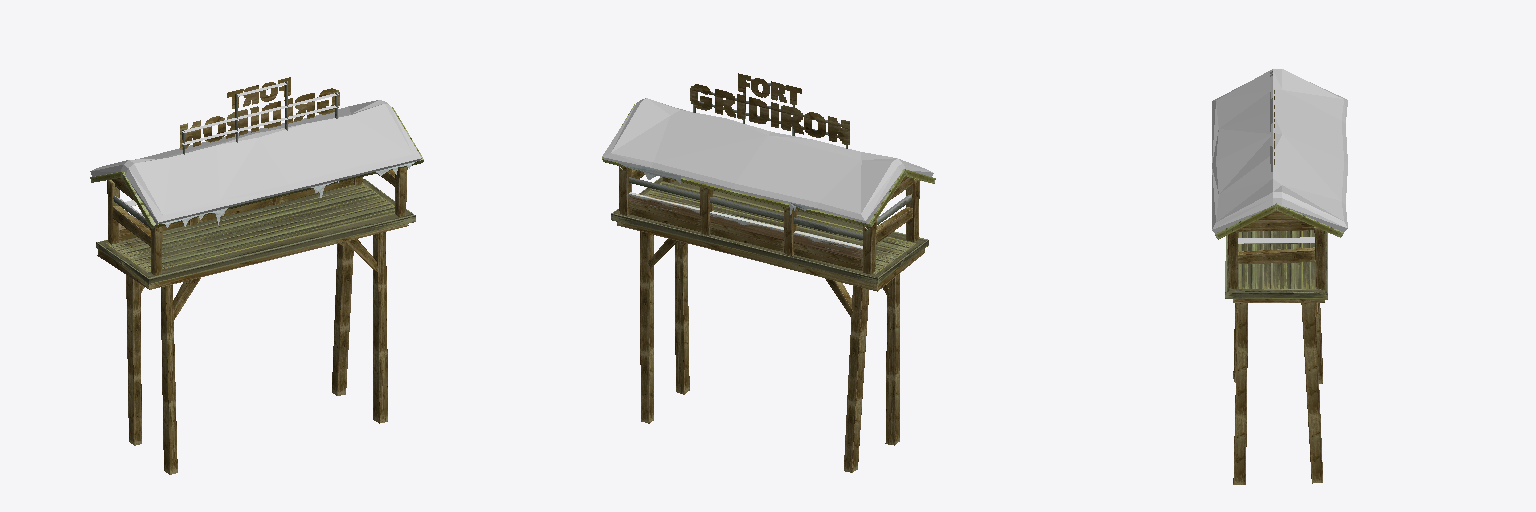
3 renders of one model, left to right at view 1: azimuth 30°, elevation 25°; view 2: azimuth 150°, elevation 25°; view 3: azimuth 270°, elevation 25°, orthographic.
Visible parts, largest first — view 1: Node 0; view 2: Node 0; view 3: Node 0.
Part boxes in pixels (x1,y1,x2,y2): Node 0: (90,77,423,474); Node 0: (602,73,935,472); Node 0: (1212,69,1347,484).
Size of the model in its own units: 17.24 by 21.35 by 7.49.
Materials: 6 (5 with a texture image).